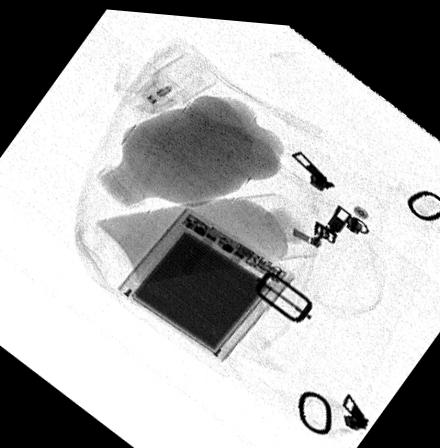Powerbank: (116, 202, 295, 359)
